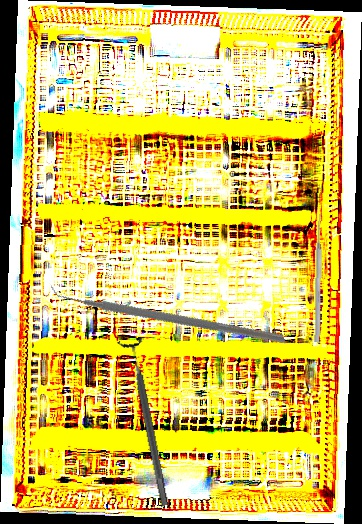Chopper: (46, 204, 287, 415)
Fixation Ring: (116, 336, 178, 509)
Pusher: (313, 213, 324, 343)
